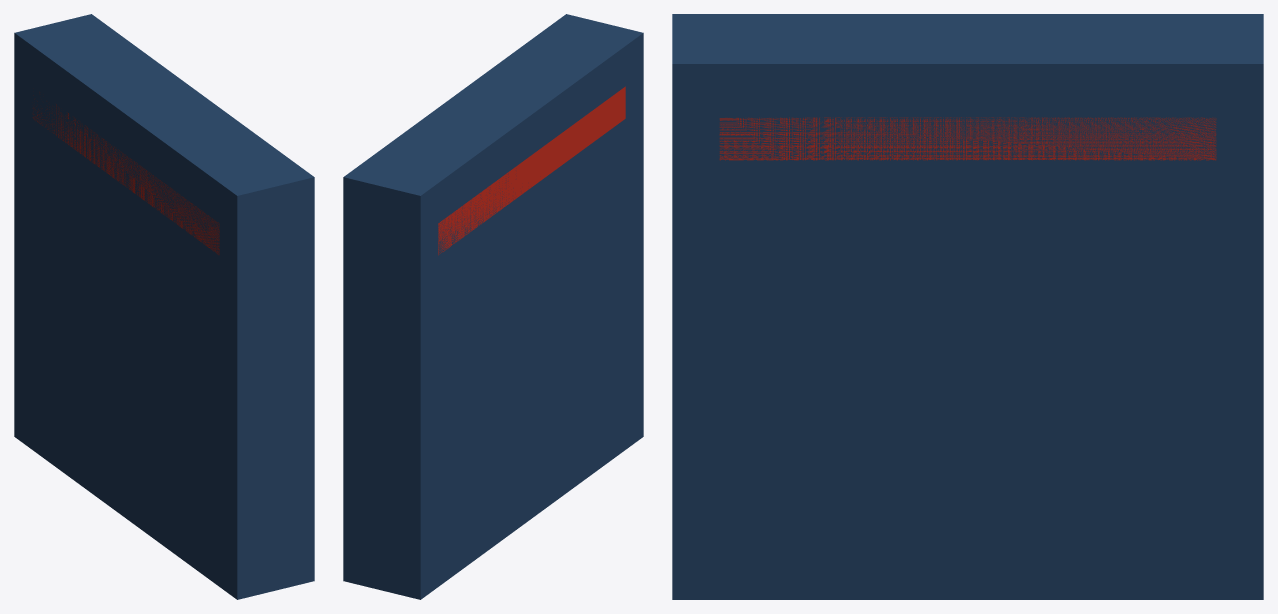
The model's file is security_door_top_left.obj.
3 renders of one model, left to right at view 1: azimuth 30°, elevation 25°; view 2: azimuth 150°, elevation 25°; view 3: azimuth 270°, elevation 25°, orthographic. The views are drawn at different scales.
Visible parts, largest first — view 1: security_door_top_left; view 2: security_door_top_left; view 3: security_door_top_left.
Part boxes in pixels (bbox=[...]): security_door_top_left: bbox=[14, 14, 314, 599]; security_door_top_left: bbox=[343, 14, 643, 599]; security_door_top_left: bbox=[672, 14, 1263, 599].
Bounding box in the file's own units: 0.2 × 1 × 1.
